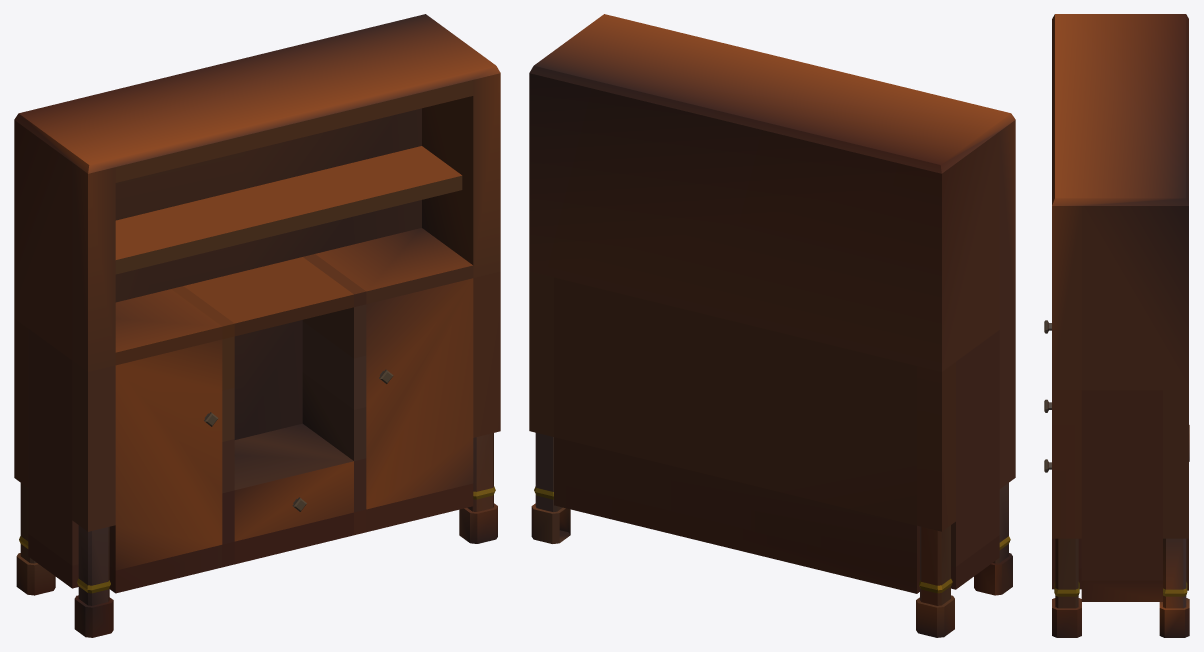
File: Furniture_ShelfC.fbx
3 views of the same model, side by side, from view 1: azimuth 30°, elevation 25°; view 2: azimuth 150°, elevation 25°; view 3: azimuth 270°, elevation 25° (orthographic). The views are drawn at different scales.
Visible parts, largest first — view 1: Furniture_ShelfC; view 2: Furniture_ShelfC; view 3: Furniture_ShelfC.
Boxes of the visible parts, box(x1,y1,x2,y2) form: Furniture_ShelfC: box(14, 14, 500, 637); Furniture_ShelfC: box(529, 14, 1015, 637); Furniture_ShelfC: box(1044, 14, 1189, 637).
Bounding box in the file's own units: 150 × 164 × 49.3.
